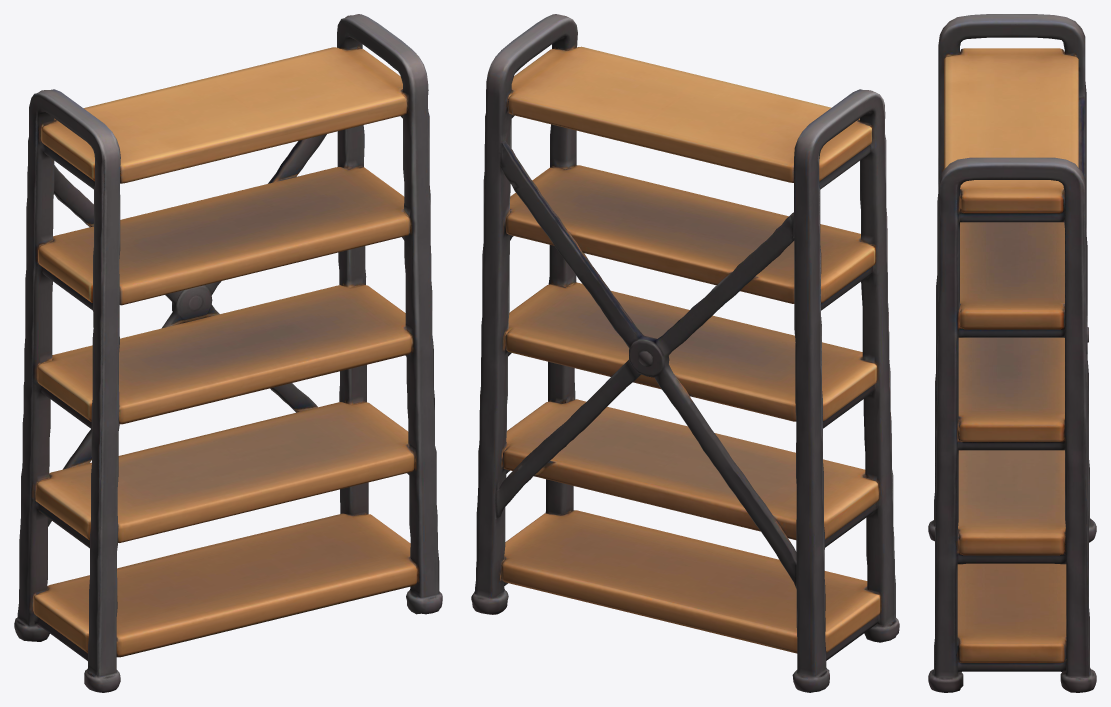
The model's file is graphite-bookcase-stylized-v2.glb.
3 renders of one model, left to right at view 1: azimuth 30°, elevation 25°; view 2: azimuth 150°, elevation 25°; view 3: azimuth 270°, elevation 25°, orthographic. The views are drawn at different scales.
Parts seen in each view (by area): view 1: graphite-bookcase-stylized-v2; view 2: graphite-bookcase-stylized-v2; view 3: graphite-bookcase-stylized-v2.
Part boxes in pixels (left/top/right/bottom): graphite-bookcase-stylized-v2: left=14, top=14, right=442, bottom=692; graphite-bookcase-stylized-v2: left=471, top=14, right=899, bottom=692; graphite-bookcase-stylized-v2: left=928, top=14, right=1096, bottom=692.
Size of the model in its own units: 1.1 by 1.65 by 0.4811.
Materials: 1 (1 with a texture image).
